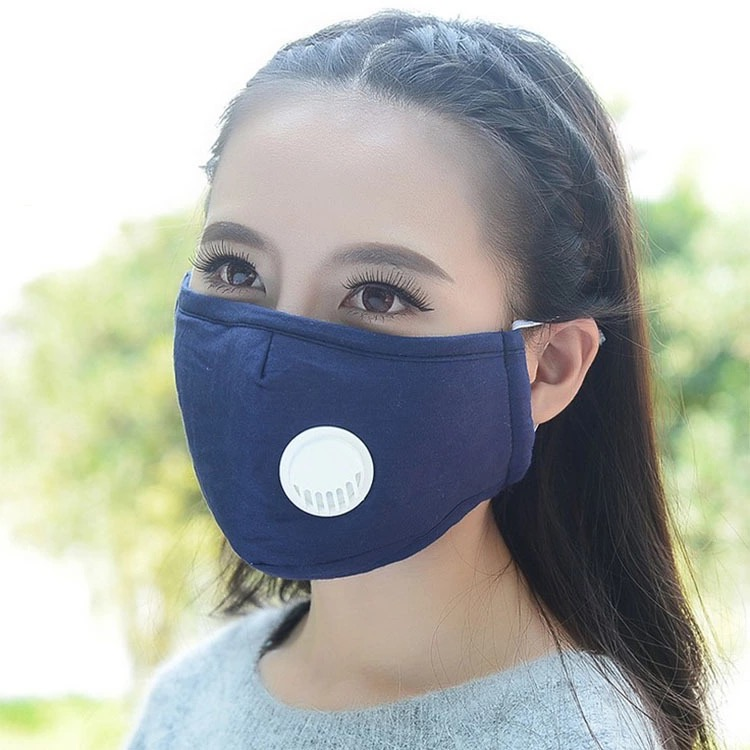face_mask: (183, 112, 503, 563)
